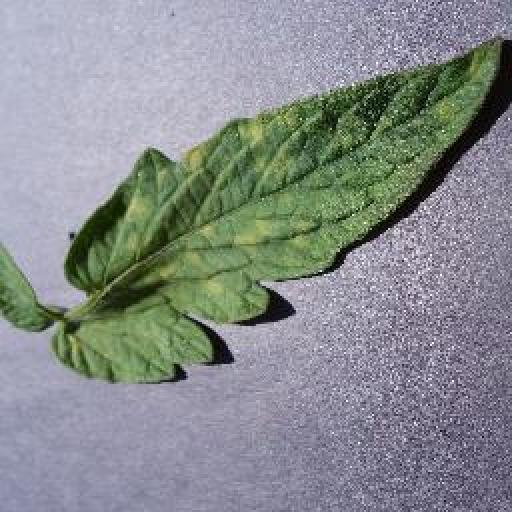disease_tomato: (52, 32, 506, 385)
